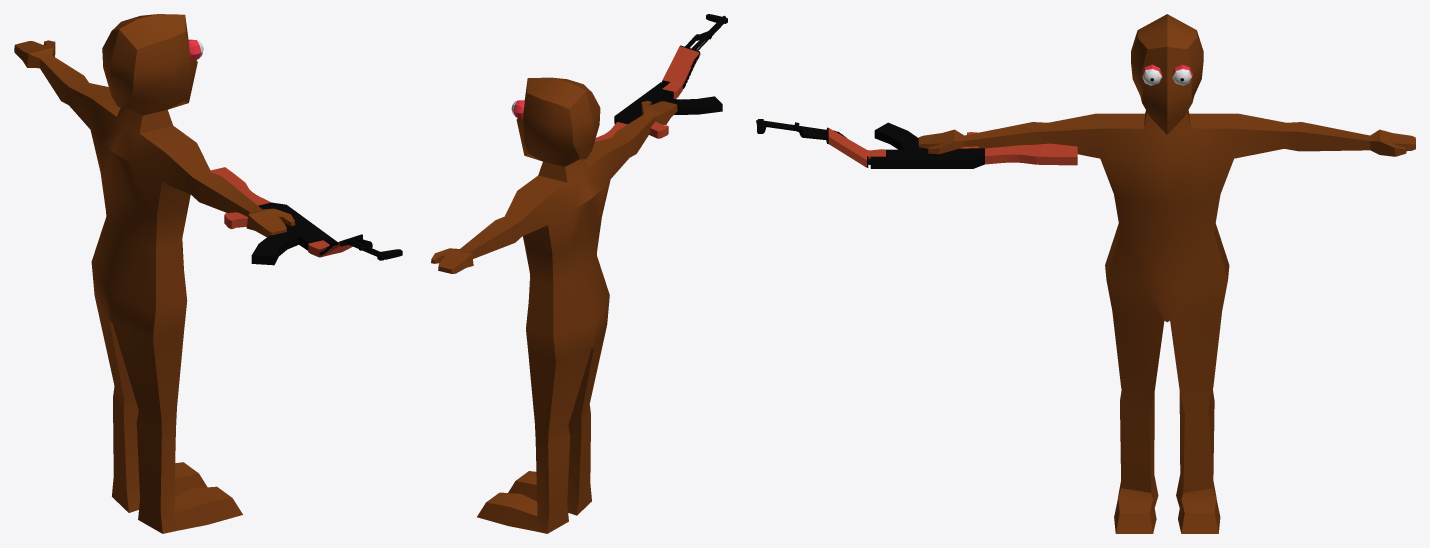
Rendered from Character_With_gun_02.fbx.
The picture shows the model from 3 angles, left to right: view 1: azimuth 30°, elevation 25°; view 2: azimuth 150°, elevation 25°; view 3: azimuth 270°, elevation 25°; orthographic projection. The views are drawn at different scales.
Parts seen in each view (by area): view 1: P_Character_with_gun; view 2: P_Character_with_gun; view 3: P_Character_with_gun.
Boxes of the visible parts, x1=… form: P_Character_with_gun: x1=14, y1=14, x2=402, y2=533; P_Character_with_gun: x1=431, y1=14, x2=727, y2=533; P_Character_with_gun: x1=756, y1=14, x2=1415, y2=533.
Size of the model in its own units: 275 by 1187 by 1480.
